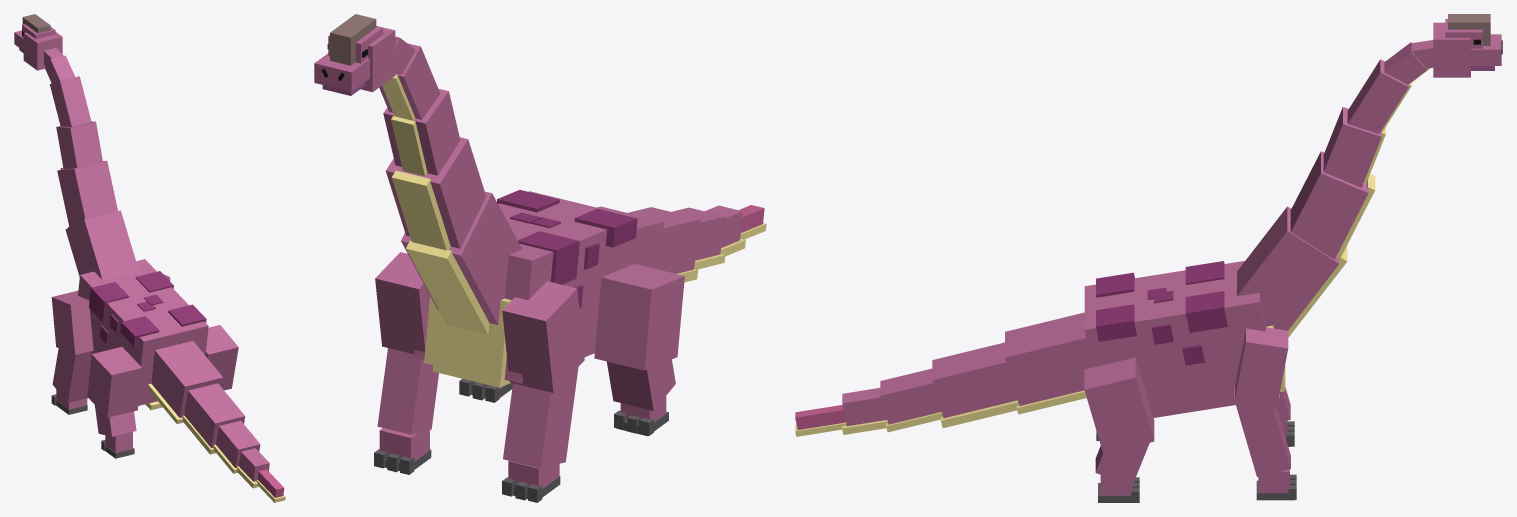
Rendered from brontosaurus.obj.
The picture shows the model from 3 angles, left to right: view 1: azimuth 30°, elevation 25°; view 2: azimuth 150°, elevation 25°; view 3: azimuth 270°, elevation 25°; orthographic projection. The views are drawn at different scales.
Parts seen in each view (by area): view 1: torso, neck, tail01, leg_L, neck5, tail02, arm_L, neck4, head, arm_L_Lower, neck3, tail03 (+7 smaller); view 2: torso, neck, leg_L, arm_L, neck5, arm_L_Lower, head, arm_R, arm_R_Lower, neck4, neck3, tail02 (+10 smaller); view 3: torso, neck, tail01, tail02, neck5, leg_R, head, arm_R, neck4, tail03, arm_R_Lower, neck3 (+6 smaller).
Part boxes in pixels (x1,y1,x2,y2): torso: [78, 259, 208, 410]; neck: [65, 210, 138, 279]; tail01: [147, 341, 223, 423]; leg_L: [87, 347, 142, 417]; neck5: [57, 160, 117, 227]; tail02: [182, 383, 245, 454]; arm_L: [51, 290, 93, 354]; neck4: [56, 121, 102, 169]; head: [14, 14, 62, 70]; arm_L_Lower: [52, 348, 91, 402]; neck3: [49, 76, 91, 126]; tail03: [213, 420, 260, 473]; torso: [414, 190, 637, 387]; neck: [401, 191, 521, 334]; leg_L: [594, 264, 684, 370]; arm_L: [502, 281, 584, 392]; neck5: [386, 137, 486, 250]; arm_L_Lower: [503, 367, 578, 468]; head: [314, 14, 395, 92]; arm_R: [375, 252, 429, 354]; arm_R_Lower: [377, 348, 438, 434]; neck4: [383, 88, 460, 176]; neck3: [379, 43, 440, 120]; tail02: [628, 207, 700, 282]; torso: [1084, 261, 1285, 417]; neck: [1237, 206, 1347, 337]; tail01: [1005, 312, 1091, 414]; tail02: [932, 342, 1018, 428]; neck5: [1290, 151, 1375, 259]; leg_R: [1084, 357, 1154, 453]; head: [1433, 14, 1502, 77]; arm_R: [1234, 327, 1288, 409]; neck4: [1323, 107, 1385, 187]; tail03: [880, 368, 942, 432]; arm_R_Lower: [1234, 386, 1290, 476]; neck3: [1347, 59, 1411, 133].
Size of the model in its own units: 6.96 by 17.25 by 24.64.
